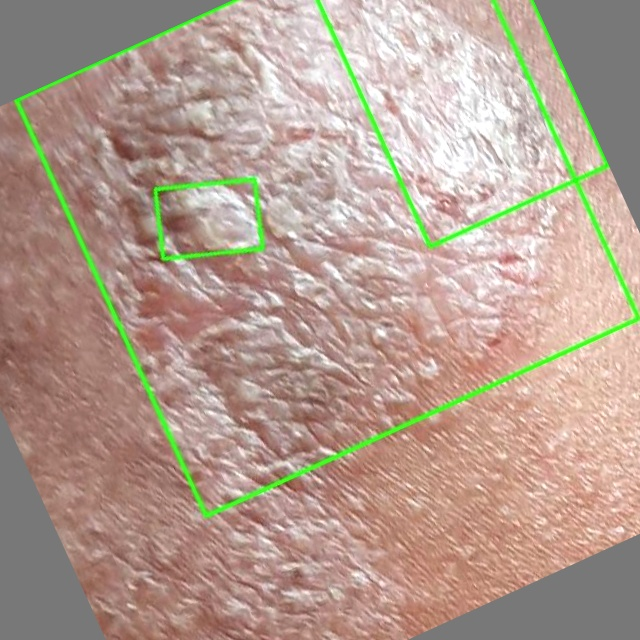Contact Dermatitis: (16, 0, 638, 516), (317, 0, 607, 246), (156, 179, 262, 259)
